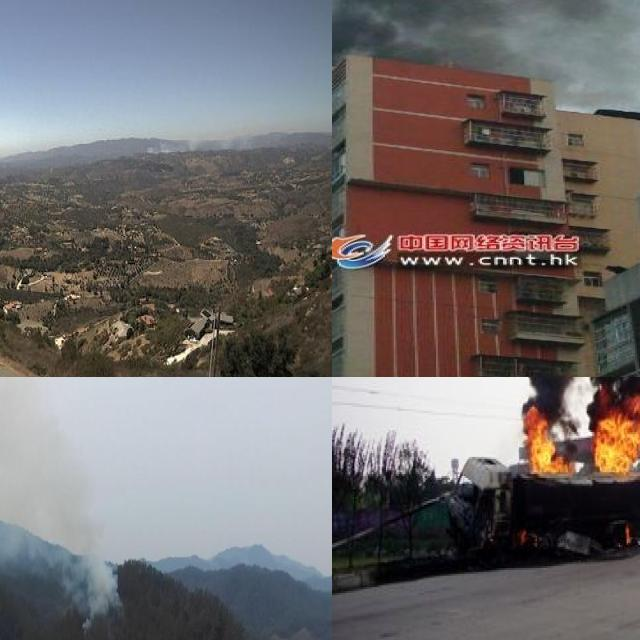fire: (593, 390, 640, 480), (523, 400, 566, 486)
smoke: (332, 0, 640, 128), (0, 377, 130, 612), (143, 117, 285, 155)
